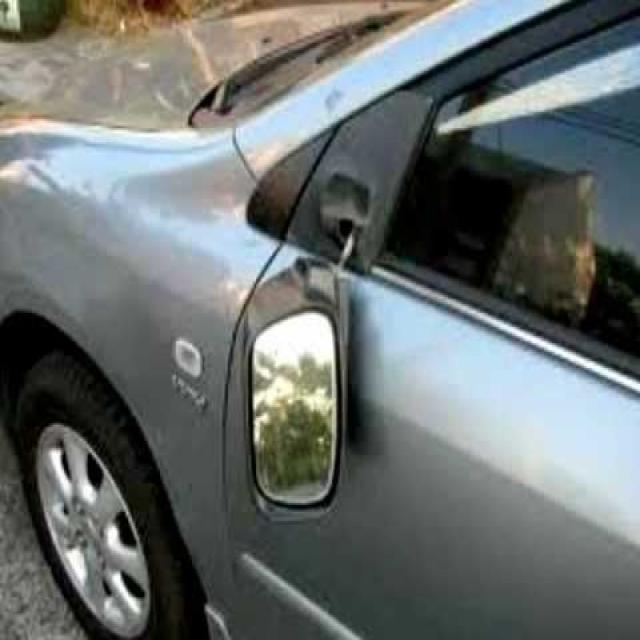crack: (245, 171, 371, 522)
